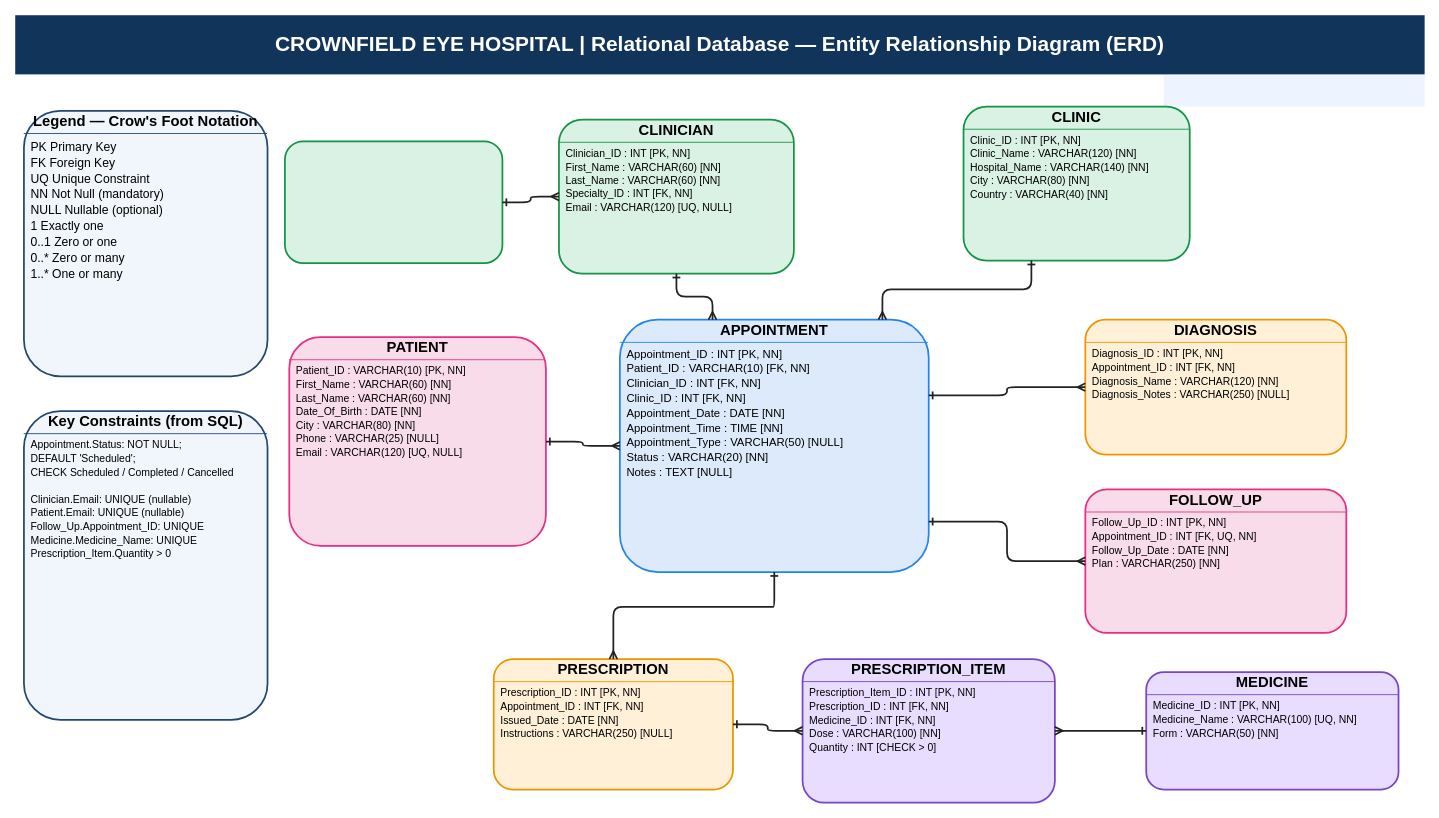
The diagram is 1439 pixels wide and 818 high, and some of its shapes have lost their labels. Here are the shapes that lost their labels. From the top down, the centre of each, then its label:
point (1293, 90): Database: crownfield_ro_pl_demo | MySQL 8.4.11
point (393, 202): SPECIALTY Specialty_ID : INT [PK, NN] Specialty_Name : VARCHAR(100) [UQ, NN]
